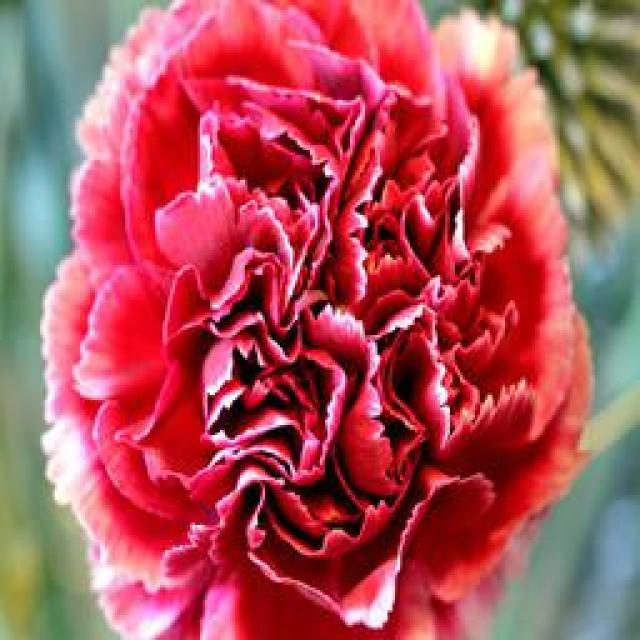carnation: (46, 0, 598, 640)
